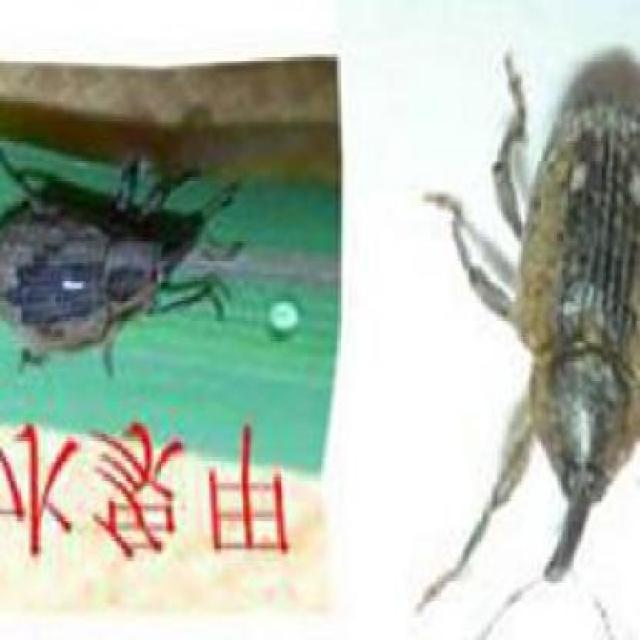rice-bug: (486, 90, 639, 585), (0, 174, 209, 366)
